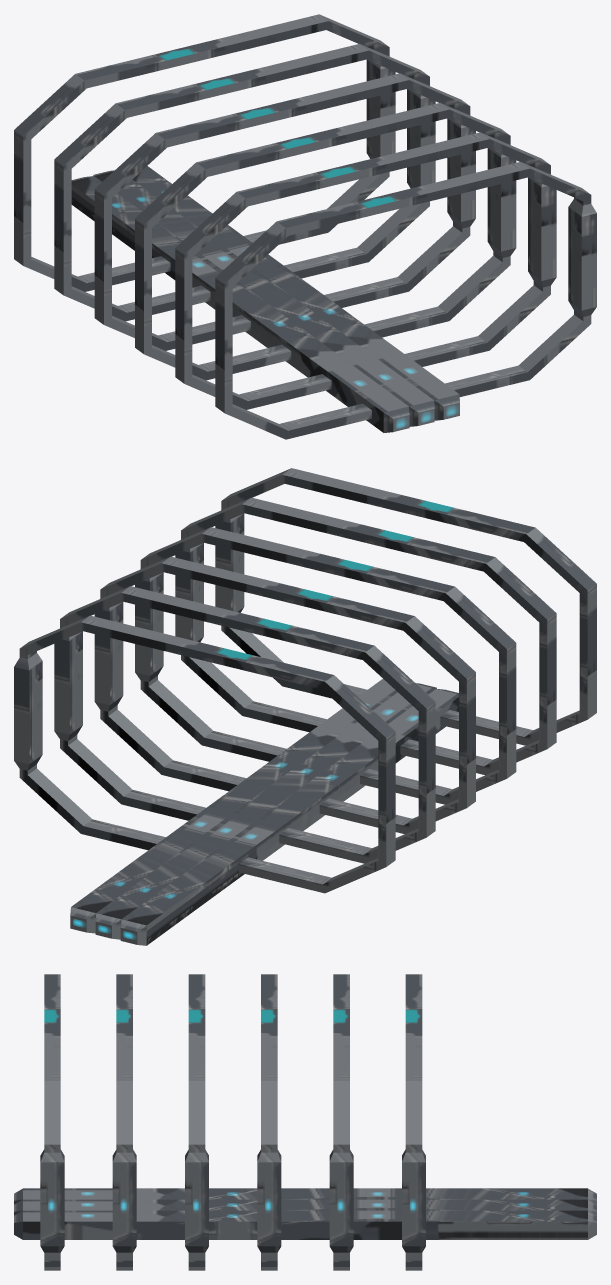
The model's file is ShipyardA.gltf.
3 renders of one model, top to bottom at view 1: azimuth 30°, elevation 25°; view 2: azimuth 150°, elevation 25°; view 3: azimuth 270°, elevation 25°, orthographic. The views are drawn at different scales.
Visible parts, largest first — view 1: SpaceshipsYard02; view 2: SpaceshipsYard02; view 3: SpaceshipsYard02.
Boxes of the visible parts, x1=… form: SpaceshipsYard02: x1=14, y1=14, x2=596, y2=439; SpaceshipsYard02: x1=14, y1=468, x2=596, y2=945; SpaceshipsYard02: x1=14, y1=974, x2=596, y2=1270.
Size of the model in its own units: 32.71 by 18.36 by 49.74.
1 material, 1 textured.
